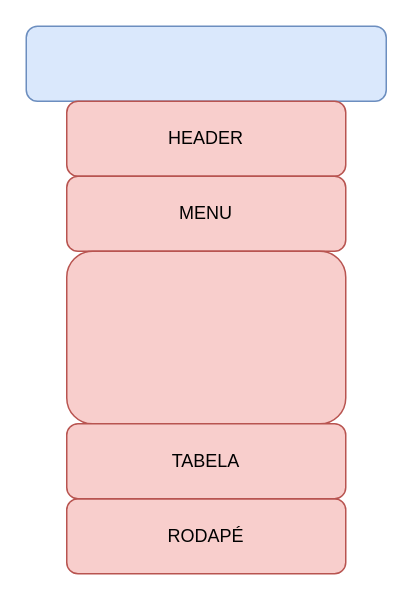
Some shapes in this 413 by 600 pixel diagram are drawn without their labels. The shapes that lost their labels are listed below. From the top down, each one's centre as x and y in pixels, then its label:
At (205,63): "Inicial".
At (205,337): "IMAGEM".
